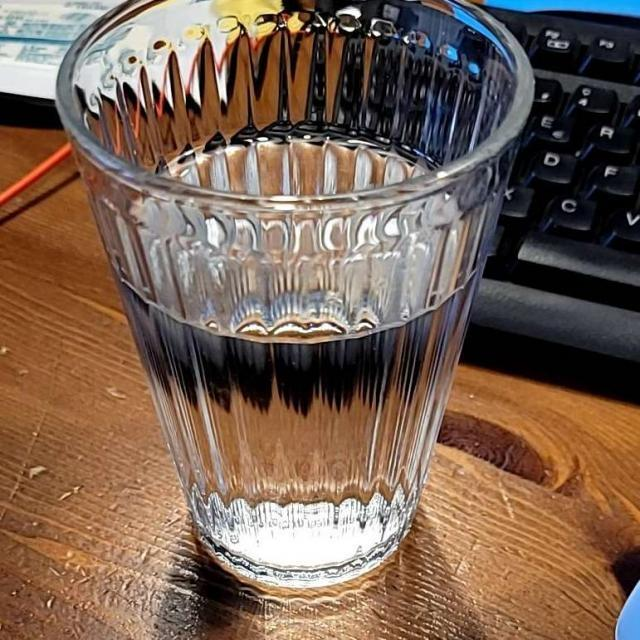water: (113, 138, 481, 598)
